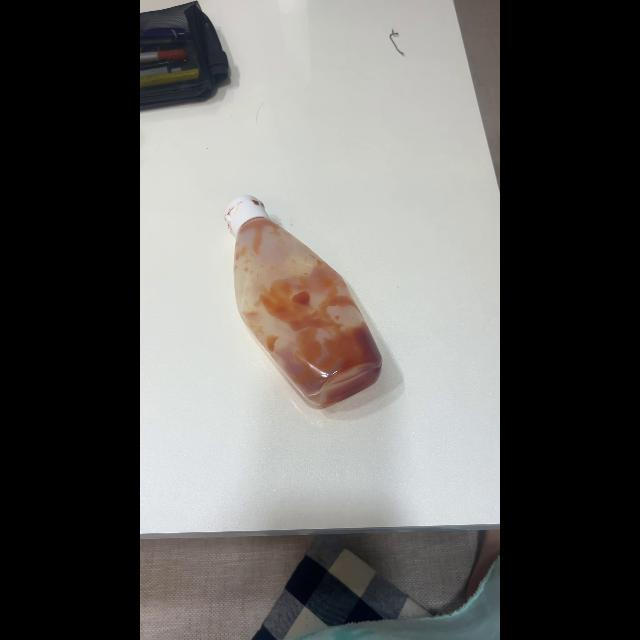dirty: (214, 195, 390, 412)
